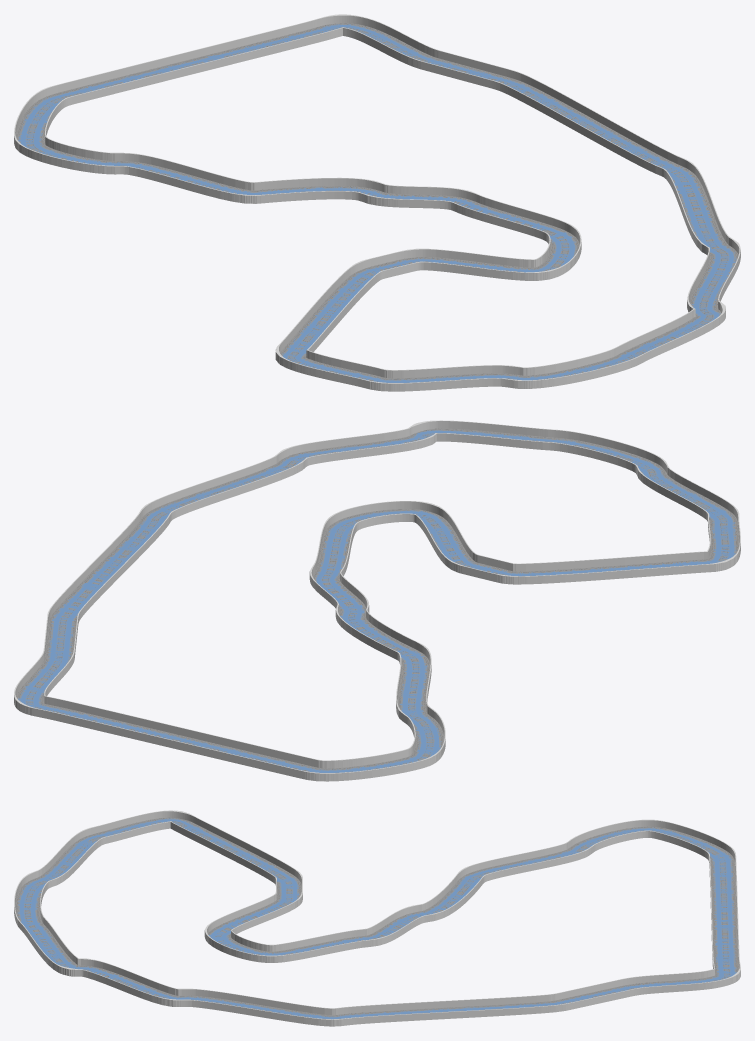
File: Road Test.fbx
3 views of the same model, one above another, from view 1: azimuth 30°, elevation 25°; view 2: azimuth 150°, elevation 25°; view 3: azimuth 270°, elevation 25° (orthographic). The views are drawn at different scales.
Visible parts, largest first — view 1: Plane, Cube, Cube.001; view 2: Plane, Cube, Cube.001; view 3: Plane, Cube, Cube.001.
Part boxes in pixels (x1,y1,x2,y2): Plane: (15,23,738,382); Cube: (14,14,740,391); Cube.001: (45,27,709,378); Plane: (16,428,739,772); Cube: (14,420,740,781); Cube.001: (44,433,710,768); Plane: (15,817,739,1019); Cube: (14,810,740,1026); Cube.001: (40,821,714,1015).
Bounding box in the file's own units: 36527 × 551 × 53565.
